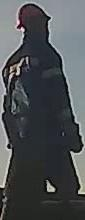gloves: (64, 121, 85, 154)
helmet: (15, 2, 52, 30)
vest: (3, 42, 66, 151)
